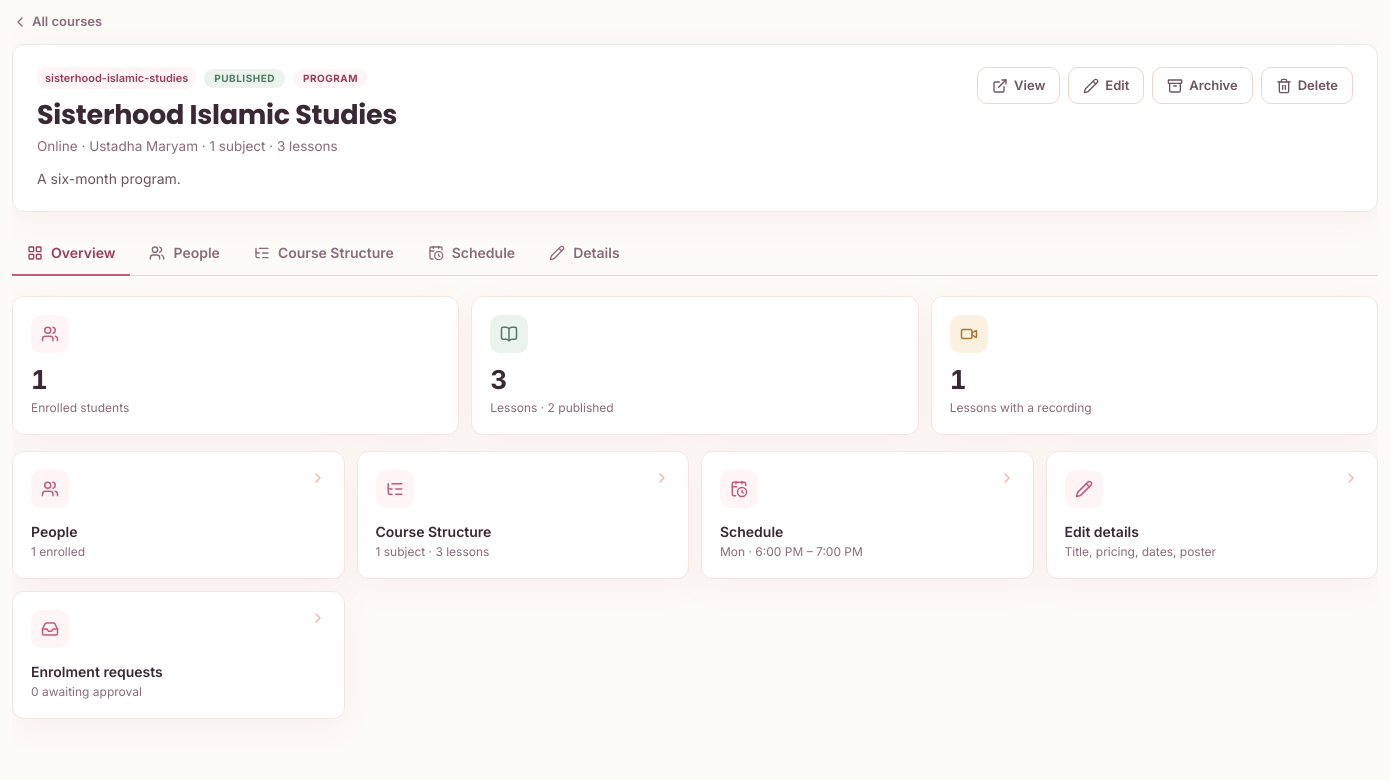
Test: CourseWorkspace › shows the roster on People, with the intake fields and the enrol control
What coordinates should you click on to do the following:
click the tab "People"
I would click on:
 (185, 254)
Its box is [134,232,235,276].
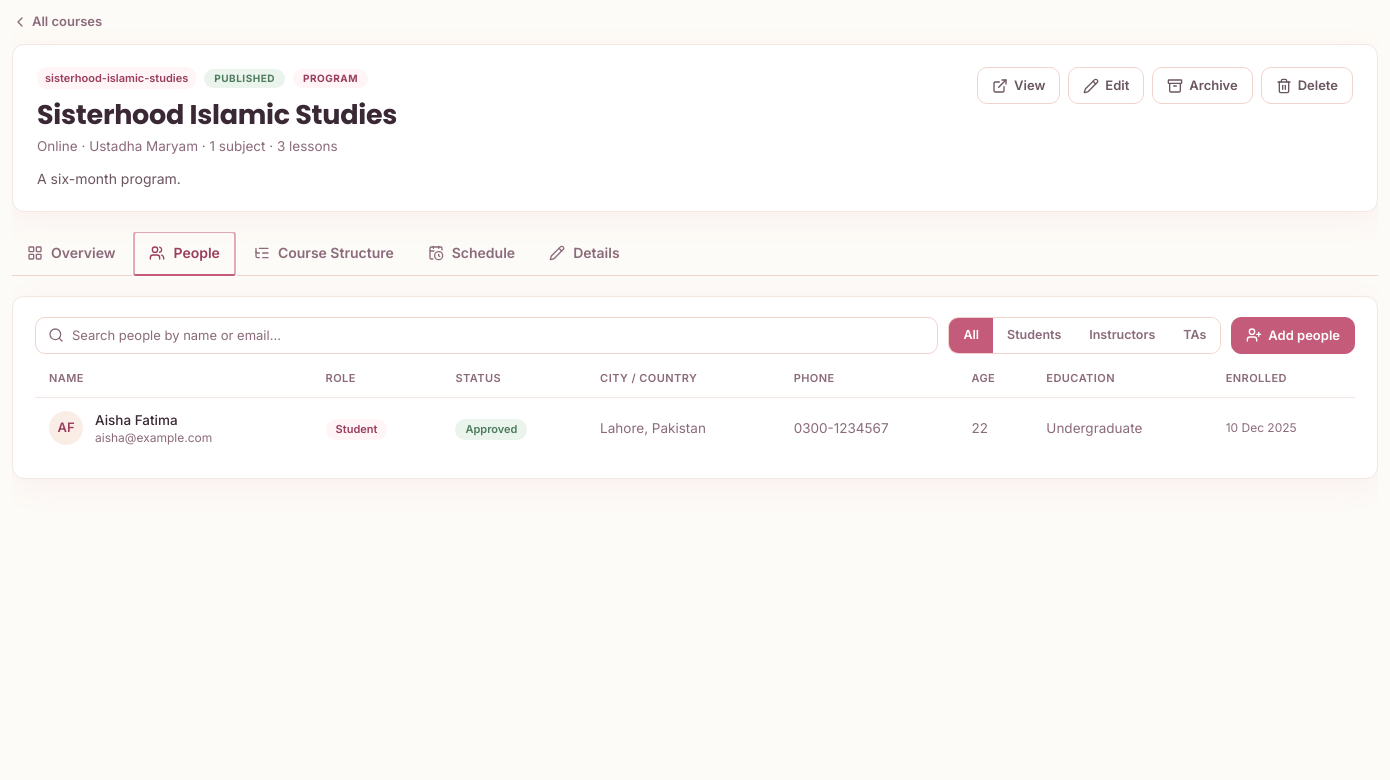
Expected: the text "Aisha Fatima" is shown 2 times
Expected: the text "aisha@example.com" is shown 2 times
Expected: the text "Lahore, Pakistan" is shown 2 times
